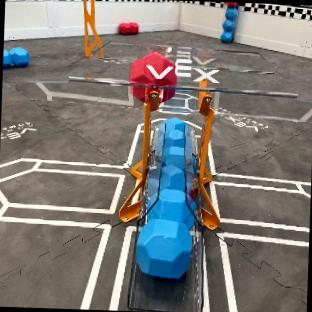V5_BLUE: (137, 189, 194, 277), (158, 118, 190, 168), (221, 2, 237, 42), (3, 48, 29, 68)
V5_RED: (129, 52, 176, 86), (131, 86, 149, 101), (119, 22, 129, 34)
blueingoal: (159, 88, 174, 101)
